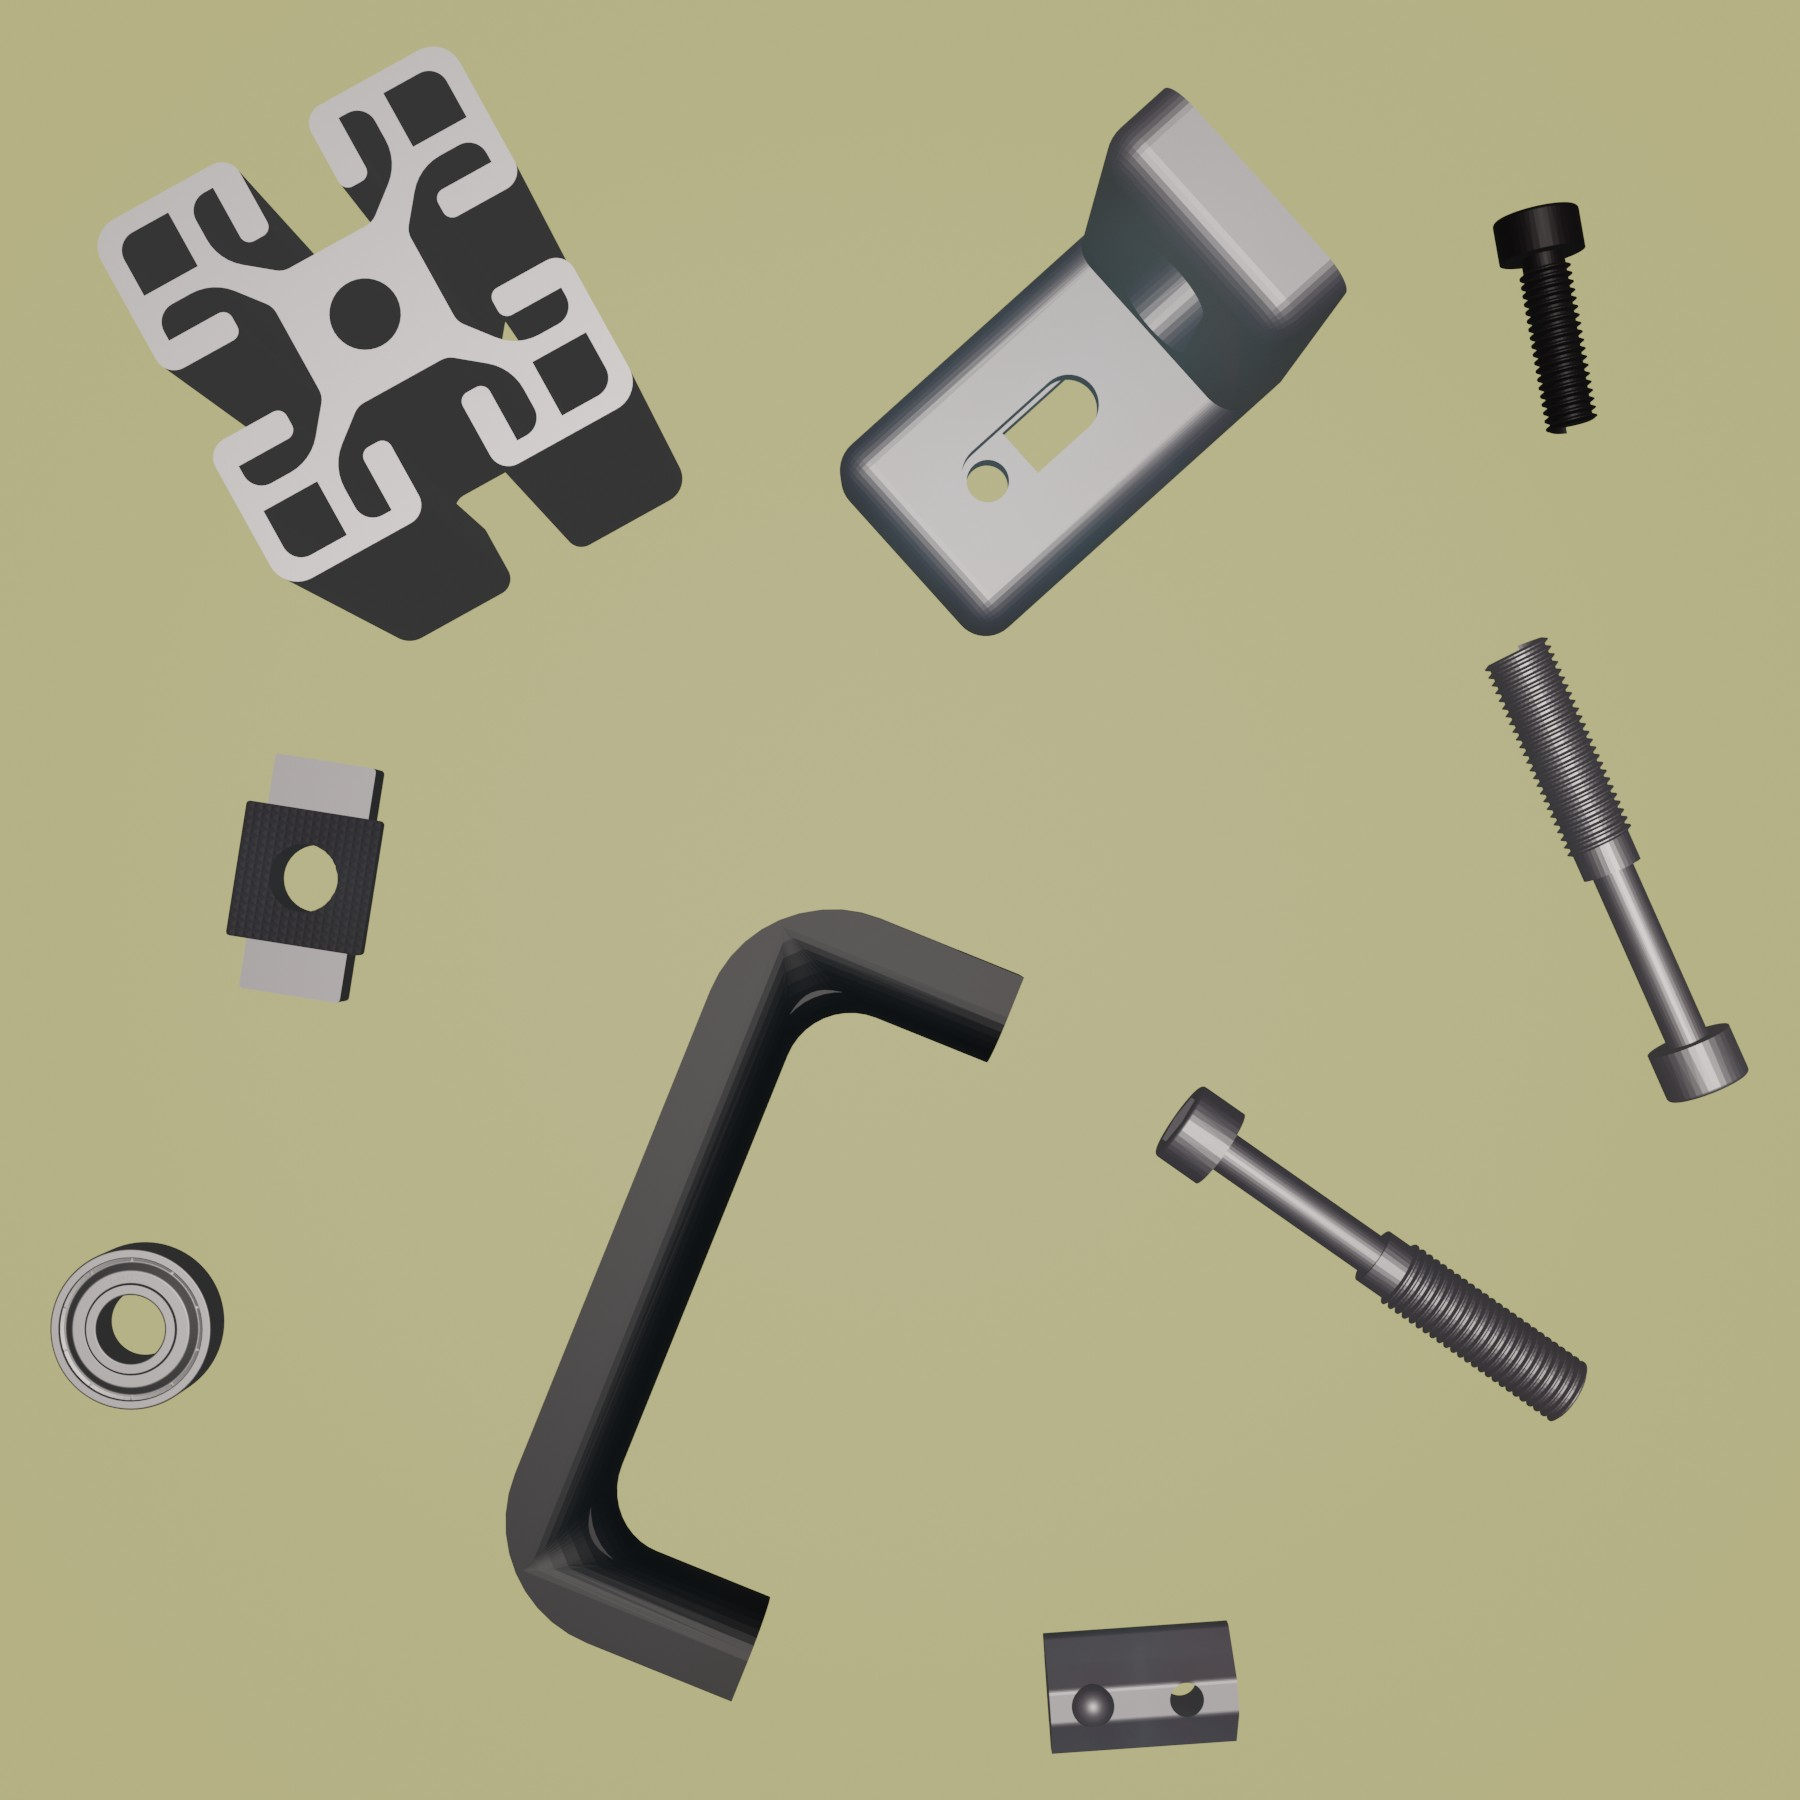Aluminium Extension: (94, 43, 686, 641)
Ball Bearing: (46, 1238, 229, 1413)
Multiwinkel: (837, 84, 1348, 640)
Pull Handle: (504, 903, 1027, 1704)
Shoulder Socket Head Cap Screw: (1151, 1085, 1591, 1427), (1479, 631, 1752, 1104)
Socket Head Cap Screw: (1492, 199, 1601, 442)
T Nut Square: (223, 753, 389, 1005)
T Spring Nut: (1038, 1619, 1240, 1759)
